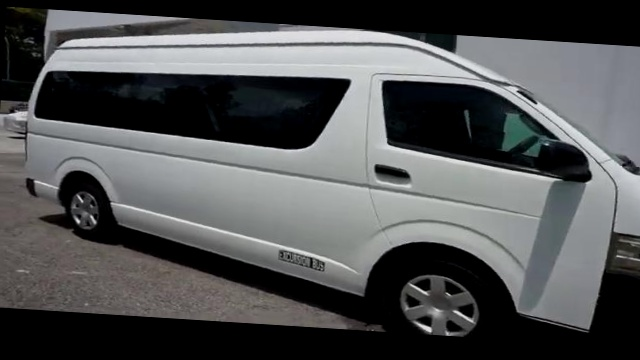van: (12, 28, 640, 337)
